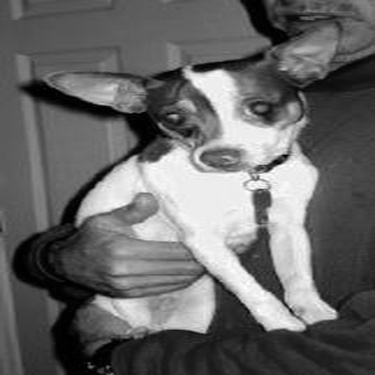dog: (36, 16, 347, 354)
